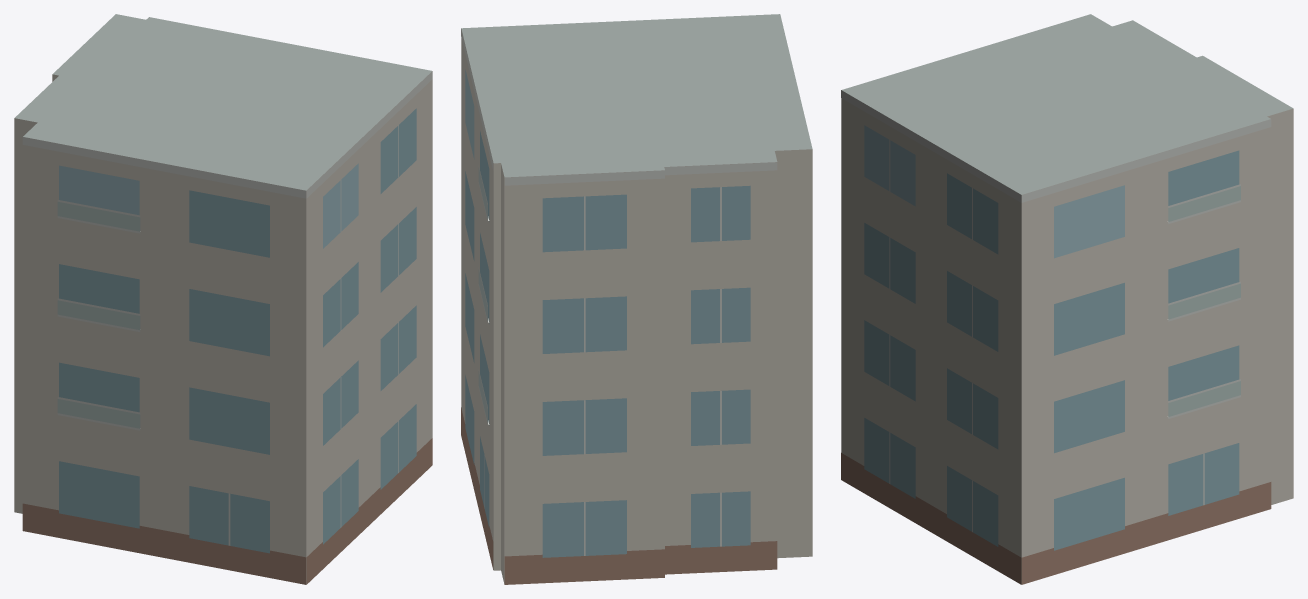
File: survey-upis-32721774.glb
3 renders of one model, left to right at view 1: azimuth 30°, elevation 25°; view 2: azimuth 150°, elevation 25°; view 3: azimuth 270°, elevation 25°, orthographic. The views are drawn at different scales.
Parts seen in each view (by area): view 1: survey-upis-32721774.tmp; view 2: survey-upis-32721774.tmp; view 3: survey-upis-32721774.tmp.
Boxes of the visible parts, bbox=[...] form: survey-upis-32721774.tmp: bbox=[14, 14, 432, 584]; survey-upis-32721774.tmp: bbox=[461, 14, 812, 584]; survey-upis-32721774.tmp: bbox=[841, 14, 1293, 584].
Size of the model in its own units: 11.85 by 11.9 by 12.52.
